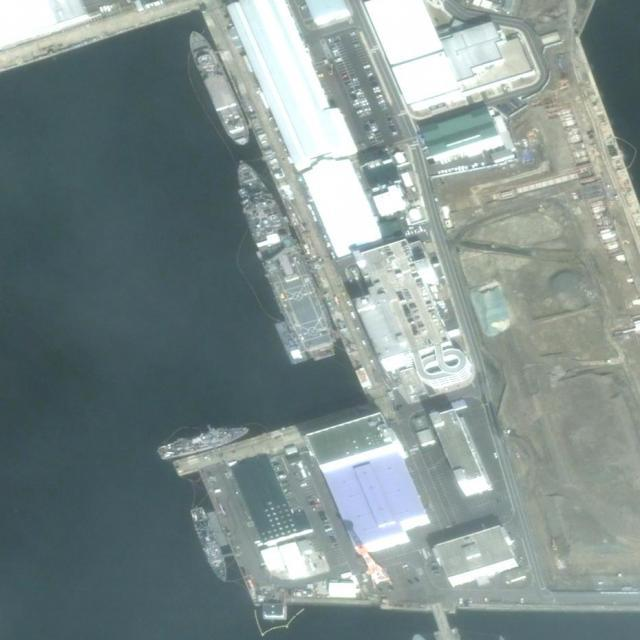Landing: (221, 149, 345, 367)
Other Warship: (181, 26, 255, 151), (156, 420, 253, 462), (188, 504, 232, 586)
